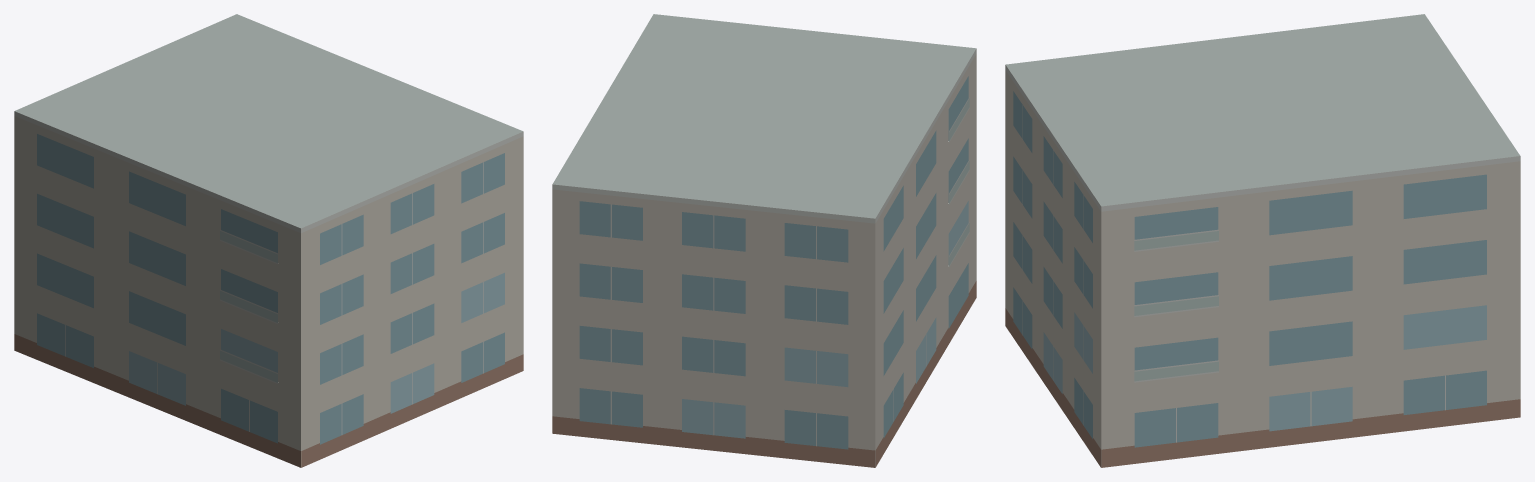
The model's file is residential-966602f2-4240-404f-b0b8-b4653acc898e.glb.
The picture shows the model from 3 angles, left to right: view 1: azimuth 30°, elevation 25°; view 2: azimuth 150°, elevation 25°; view 3: azimuth 270°, elevation 25°; orthographic projection. The views are drawn at different scales.
Visible parts, largest first — view 1: residential-966602f2-4240-404f-b0b8-b4653acc898e.tmp; view 2: residential-966602f2-4240-404f-b0b8-b4653acc898e.tmp; view 3: residential-966602f2-4240-404f-b0b8-b4653acc898e.tmp.
Boxes of the visible parts, left/top/right/bottom form: residential-966602f2-4240-404f-b0b8-b4653acc898e.tmp: left=14, top=14, right=523, bottom=467; residential-966602f2-4240-404f-b0b8-b4653acc898e.tmp: left=552, top=14, right=976, bottom=467; residential-966602f2-4240-404f-b0b8-b4653acc898e.tmp: left=1005, top=14, right=1520, bottom=467.
Bounding box in the file's own units: 19.28 × 12.2 × 21.8.
